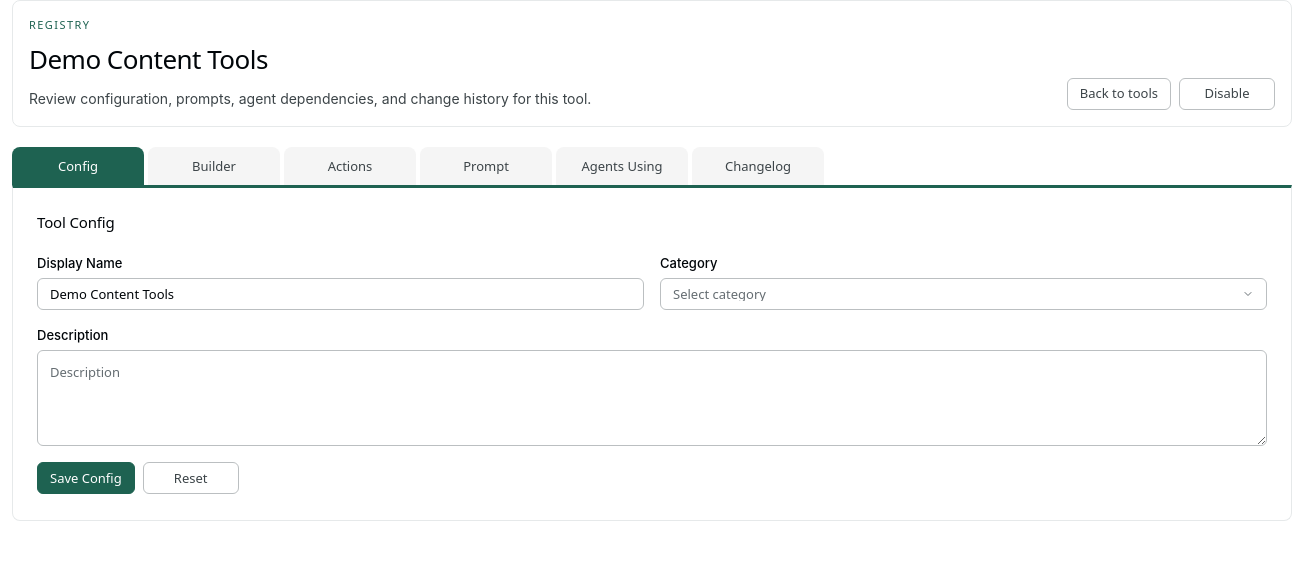
RegistryToolsDetailPage › switches a parameter group to signature rows once a parameter needs prose
Expected: the heading "Demo Content Tools" is shown, [29, 41, 268, 77]
Click the tab "Actions".
click(350, 166)  # box [284, 147, 416, 185]
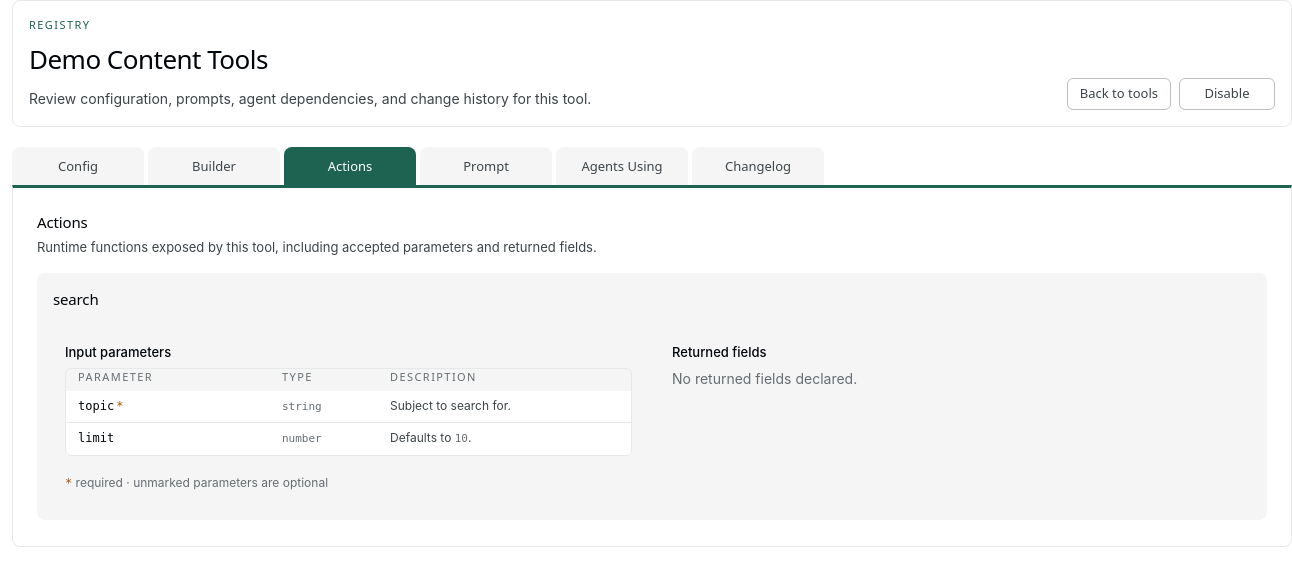
Expected: the text "topic" is shown, [78, 399, 114, 413]
